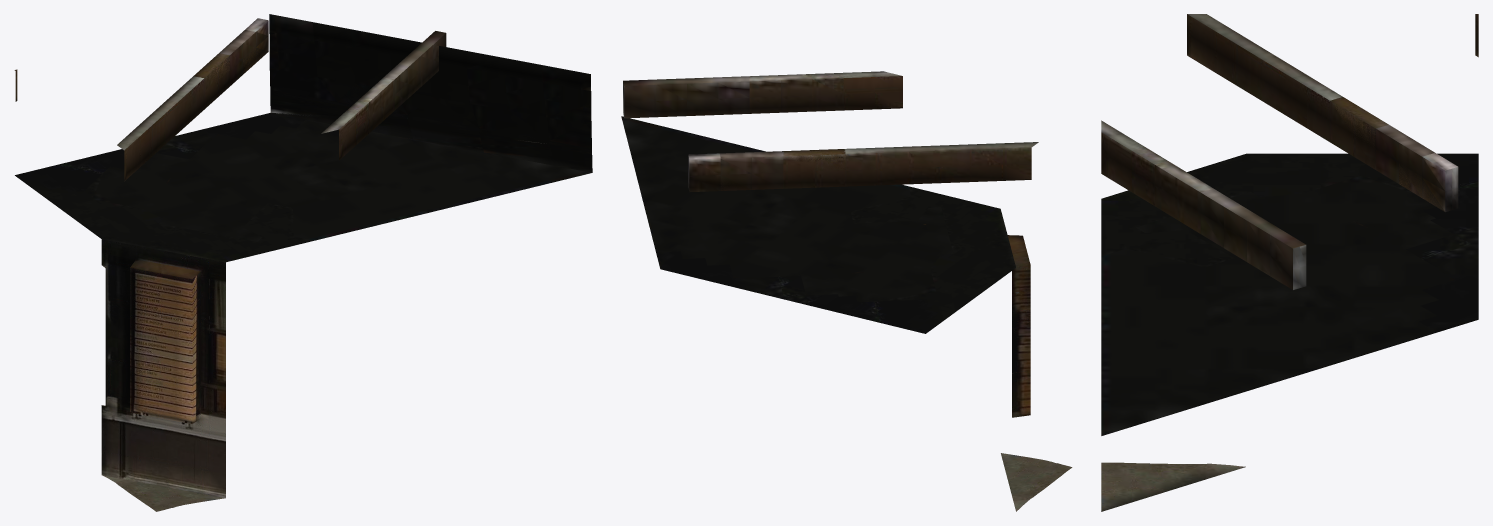
3 renders of one model, left to right at view 1: azimuth 30°, elevation 25°; view 2: azimuth 150°, elevation 25°; view 3: azimuth 270°, elevation 25°, orthographic. The views are drawn at different scales.
Bounding box in the file's own units: 6.23 × 4.65 × 3.51.
Materials: 1 (1 with a texture image).
